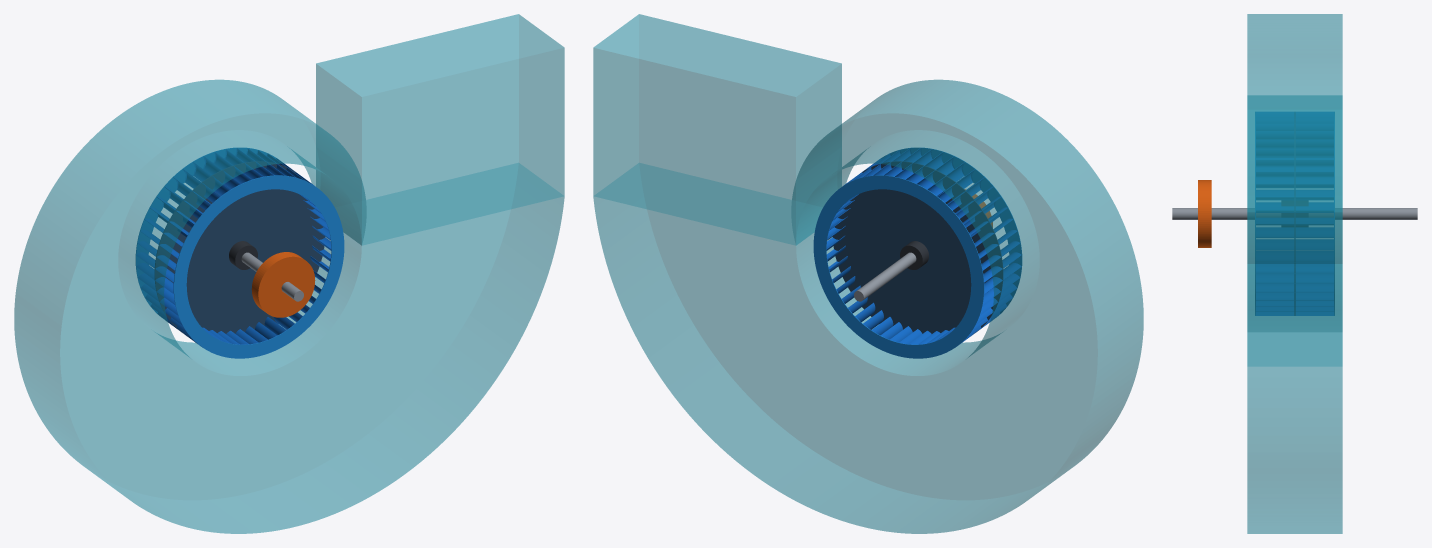
The model's file is conjunto_sirocco_v1_2.obj.
The picture shows the model from 3 angles, left to right: view 1: azimuth 30°, elevation 25°; view 2: azimuth 150°, elevation 25°; view 3: azimuth 270°, elevation 25°; orthographic projection. The views are drawn at different scales.
Visible parts, largest first — view 1: pasaje_espiral, descarga, disco_central, anillo_entrada_2, polea, anillo_entrada_1; view 2: pasaje_espiral, descarga, disco_central, anillo_entrada_1, anillo_entrada_2, eje; view 3: pasaje_espiral, descarga, eje, polea, alabe_01, alabe_48, alabe_47, alabe_02, alabe_46, alabe_03, alabe_45, alabe_11 (+14 smaller).
Part boxes in pixels (box(x1,y1,x2,y2)): pasaje_espiral: box(14, 79, 564, 533); descarga: box(316, 14, 564, 245); disco_central: box(154, 161, 324, 333); anillo_entrada_2: box(173, 175, 344, 358); polea: box(251, 252, 315, 317); anillo_entrada_1: box(135, 147, 276, 319); pasaje_espiral: box(593, 79, 1143, 533); descarga: box(593, 14, 841, 245); disco_central: box(833, 161, 1003, 333); anillo_entrada_1: box(813, 175, 984, 358); anillo_entrada_2: box(881, 147, 1022, 319); eje: box(854, 252, 916, 301); pasaje_espiral: box(1247, 14, 1342, 533); descarga: box(1247, 109, 1342, 366); eje: box(1172, 208, 1417, 219); polea: box(1198, 180, 1211, 247); alabe_01: box(1256, 251, 1333, 261); alabe_48: box(1256, 263, 1333, 273); alabe_47: box(1256, 274, 1333, 283); alabe_02: box(1256, 240, 1333, 249); alabe_46: box(1256, 284, 1333, 292); alabe_03: box(1256, 229, 1333, 237); alabe_45: box(1256, 293, 1333, 300); alabe_11: box(1256, 140, 1333, 147).
Bounding box in the file's own units: 1776 × 1429 × 720.
